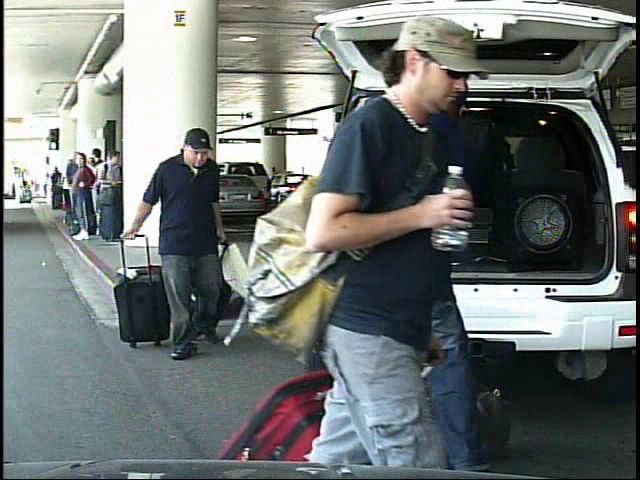person: (283, 14, 477, 473), (331, 73, 517, 476), (117, 125, 243, 363), (13, 174, 24, 205)
